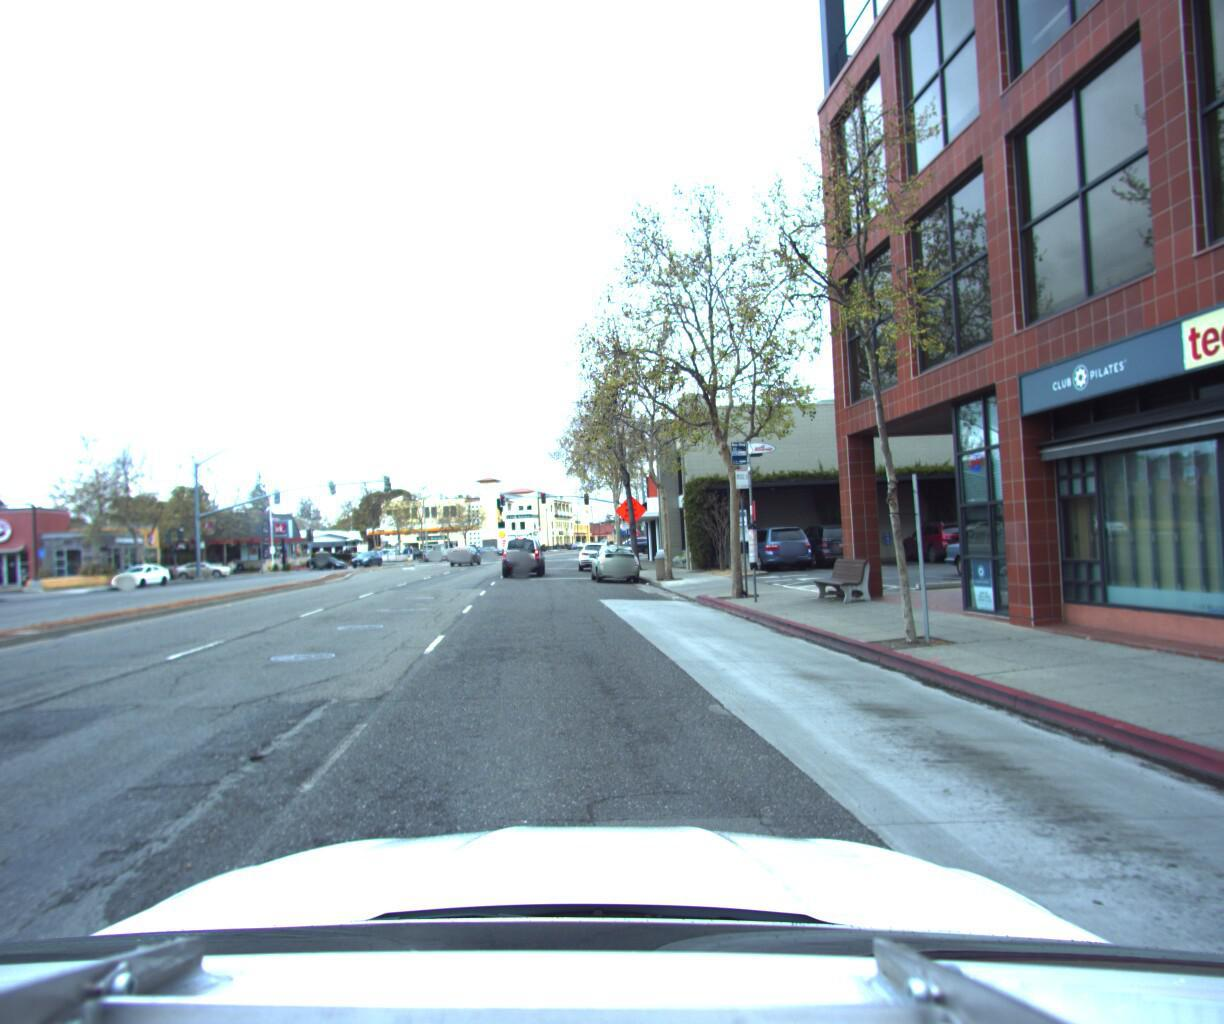car: (928, 522, 1104, 594), (724, 528, 813, 582), (779, 526, 863, 573), (585, 552, 642, 596), (110, 571, 177, 602), (502, 538, 547, 583), (175, 568, 238, 588), (576, 549, 611, 583), (447, 554, 483, 577)
